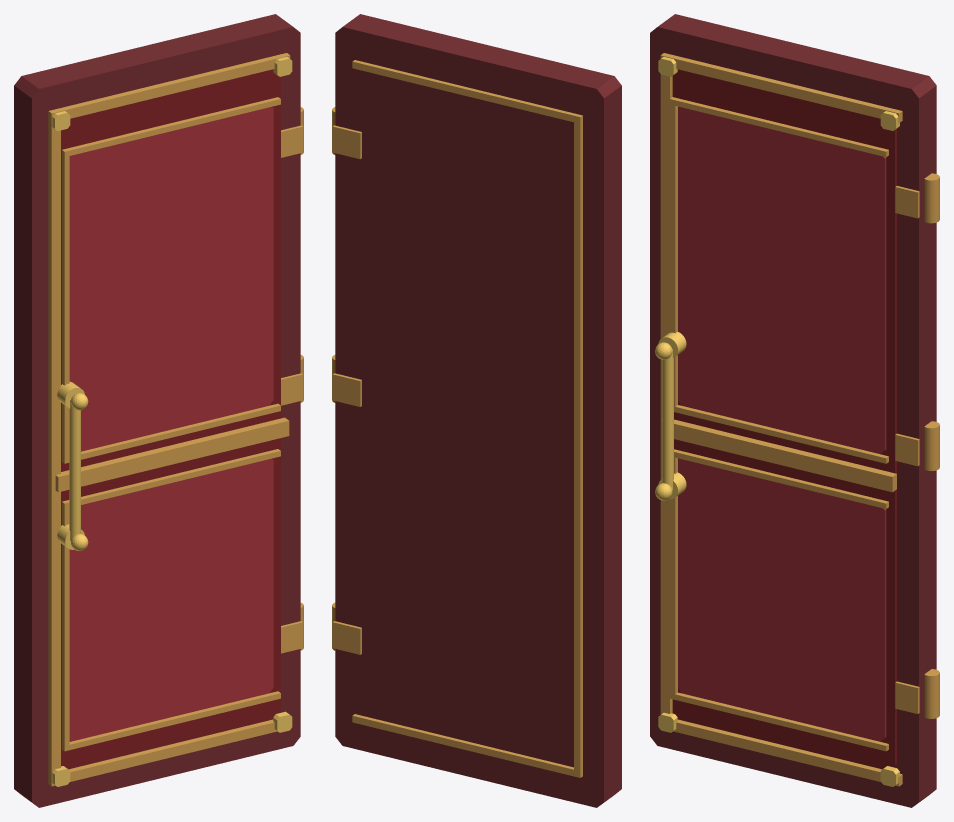
Rendered from vip_room_right_door.glb.
The picture shows the model from 3 angles, left to right: view 1: azimuth 30°, elevation 25°; view 2: azimuth 150°, elevation 25°; view 3: azimuth 330°, elevation 25°; orthographic projection.
Visible parts, largest first — view 1: Upper_Red_Panel, Door_Slab, Lower_Red_Panel, Burgundy_Face_Field, Outer_Gold_Trim_Right, Center_Gold_Rail, Outer_Gold_Trim_Top, Outer_Gold_Trim_Bottom, Upper_Panel_Gold_Trim_Right, Upper_Panel_Gold_Trim_Top, Lower_Panel_Gold_Trim_Bottom, Lower_Panel_Gold_Trim_Top (+6 smaller); view 2: Door_Slab, Back_Gold_Trim_Right, Back_Gold_Trim_Top, Back_Gold_Trim_Bottom, Hinge_Leaf_Back_3, Hinge_Leaf_Back_2, Hinge_Leaf_Back_1; view 3: Upper_Red_Panel, Lower_Red_Panel, Door_Slab, Burgundy_Face_Field, Outer_Gold_Trim_Right, Center_Gold_Rail, Outer_Gold_Trim_Top, Outer_Gold_Trim_Bottom, Upper_Panel_Gold_Trim_Right, Upper_Panel_Gold_Trim_Top, Lower_Panel_Gold_Trim_Bottom, Lower_Panel_Gold_Trim_Top (+9 smaller).
Part boxes in pixels (x1,y1,x2,y2): Upper_Red_Panel: (69,106,273,451); Door_Slab: (14,14,300,807); Lower_Red_Panel: (69,458,273,741); Burgundy_Face_Field: (61,69,280,768); Outer_Gold_Trim_Right: (48,121,60,776); Center_Gold_Rail: (55,417,289,492); Outer_Gold_Trim_Top: (48,53,290,122); Outer_Gold_Trim_Bottom: (48,719,277,786); Upper_Panel_Gold_Trim_Right: (62,155,69,458); Upper_Panel_Gold_Trim_Top: (62,97,280,157); Lower_Panel_Gold_Trim_Bottom: (62,691,280,751); Lower_Panel_Gold_Trim_Top: (62,449,280,508); Door_Slab: (335,14,621,807); Back_Gold_Trim_Right: (574,122,582,771); Back_Gold_Trim_Top: (352,60,582,123); Back_Gold_Trim_Bottom: (352,714,582,777); Hinge_Leaf_Back_3: (332,125,361,159); Hinge_Leaf_Back_2: (332,373,361,406); Hinge_Leaf_Back_1: (332,621,361,654); Upper_Red_Panel: (678,107,886,453); Lower_Red_Panel: (678,458,886,741); Door_Slab: (650,14,936,807); Burgundy_Face_Field: (672,69,896,769); Outer_Gold_Trim_Right: (660,74,672,714); Center_Gold_Rail: (661,419,896,492); Outer_Gold_Trim_Top: (660,53,902,122); Outer_Gold_Trim_Bottom: (673,719,902,786); Upper_Panel_Gold_Trim_Right: (670,104,677,406); Upper_Panel_Gold_Trim_Top: (670,97,888,157); Lower_Panel_Gold_Trim_Bottom: (670,692,888,751); Lower_Panel_Gold_Trim_Top: (674,449,888,508).
Size of the model in its own units: 0.957 by 2.35 by 0.251.
